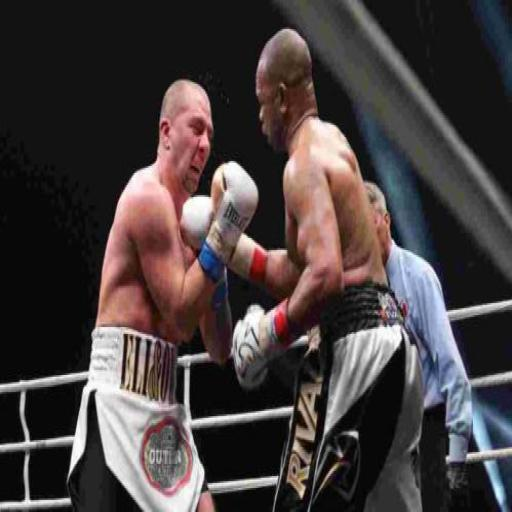boxing: (182, 26, 426, 508), (66, 77, 258, 510)
